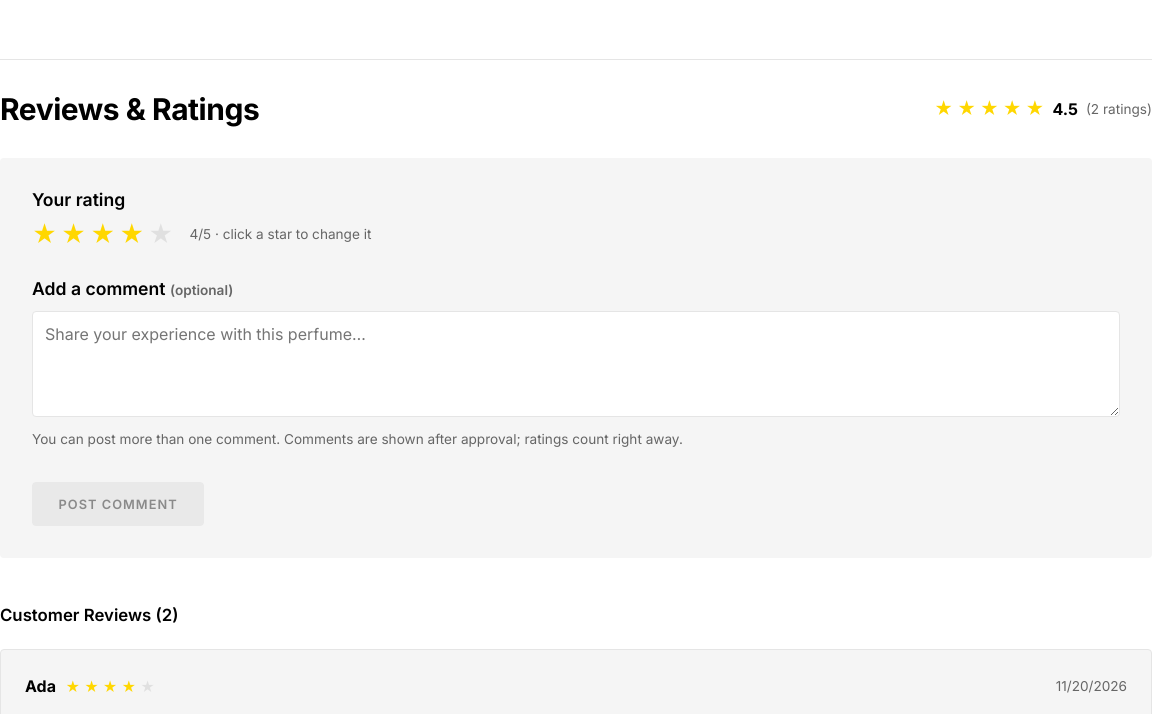
ReviewForm › lets a customer who already rated post another comment without re-rating
Check: the button "Post comment" is disabled, box [32,482,204,526]
In the text box labelled "Add a comment (optional)": x=576, y=364 [32,311,1120,417], type "One more thing"
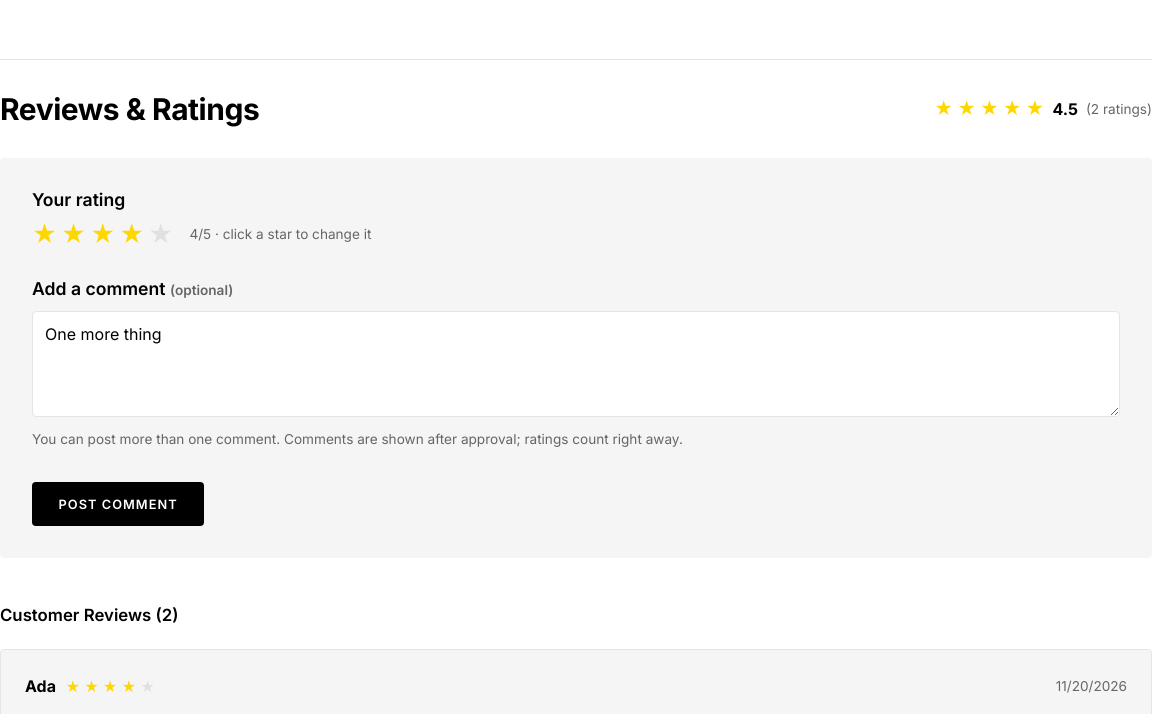
Click the button "Post comment": x=118, y=504 [32,482,204,526]
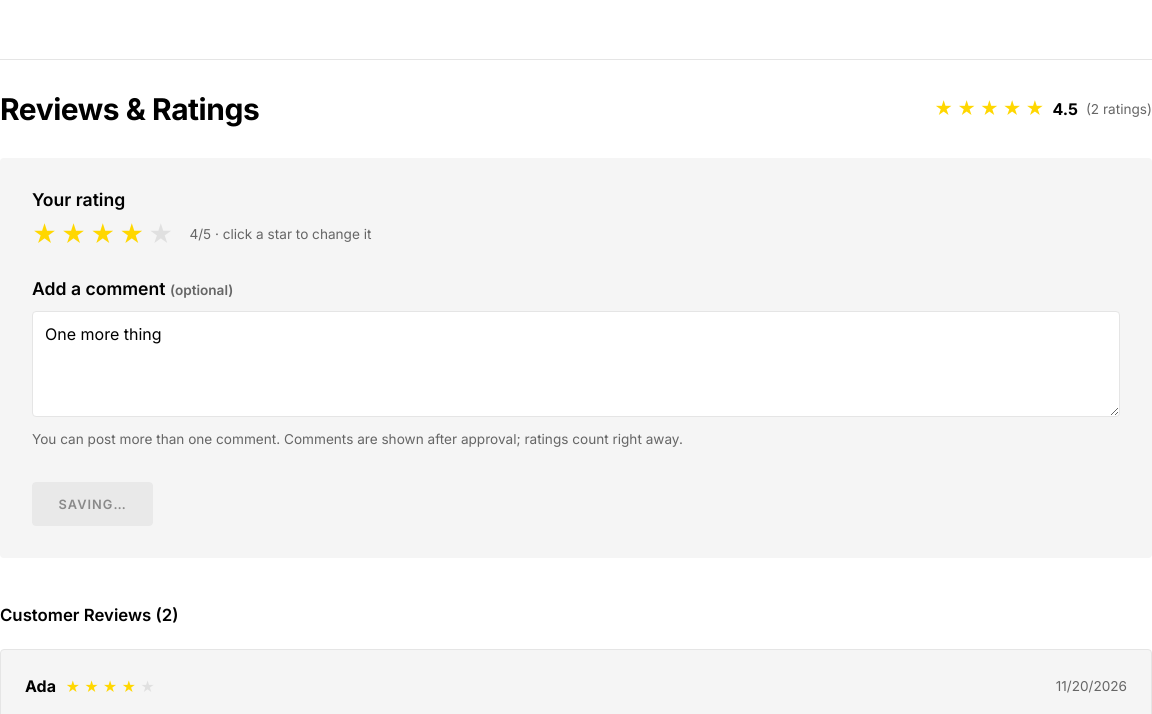
Replace the text in the text box labelled "Add a comment (optional)" with "And another": x=576, y=364 [32,311,1120,417]
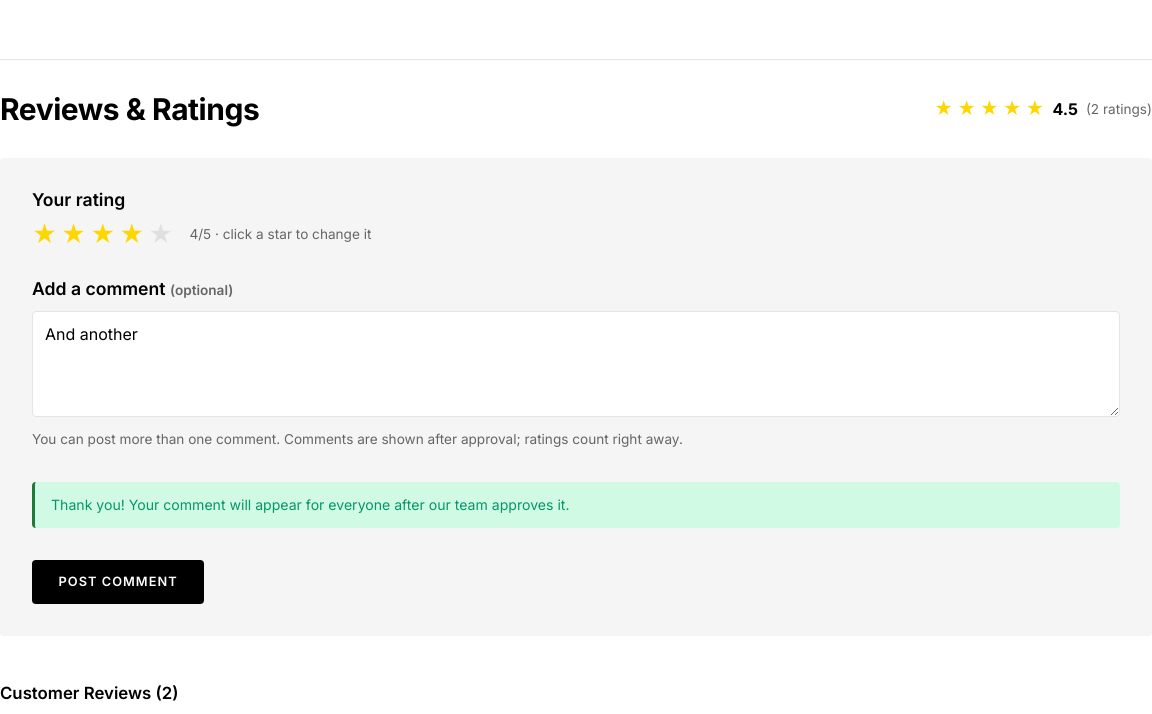
Click the button "Post comment": x=118, y=582 [32,560,204,604]
(page scrolled)
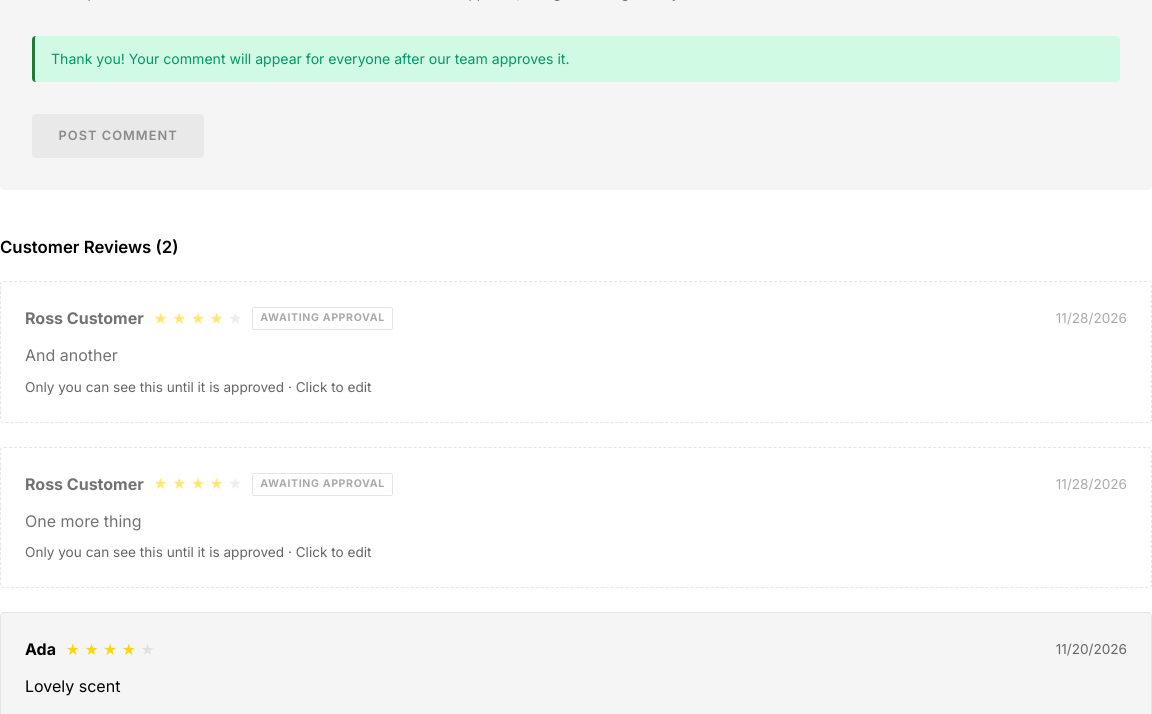
Check: the text "And another" is shown, box [25,343,118,369]
